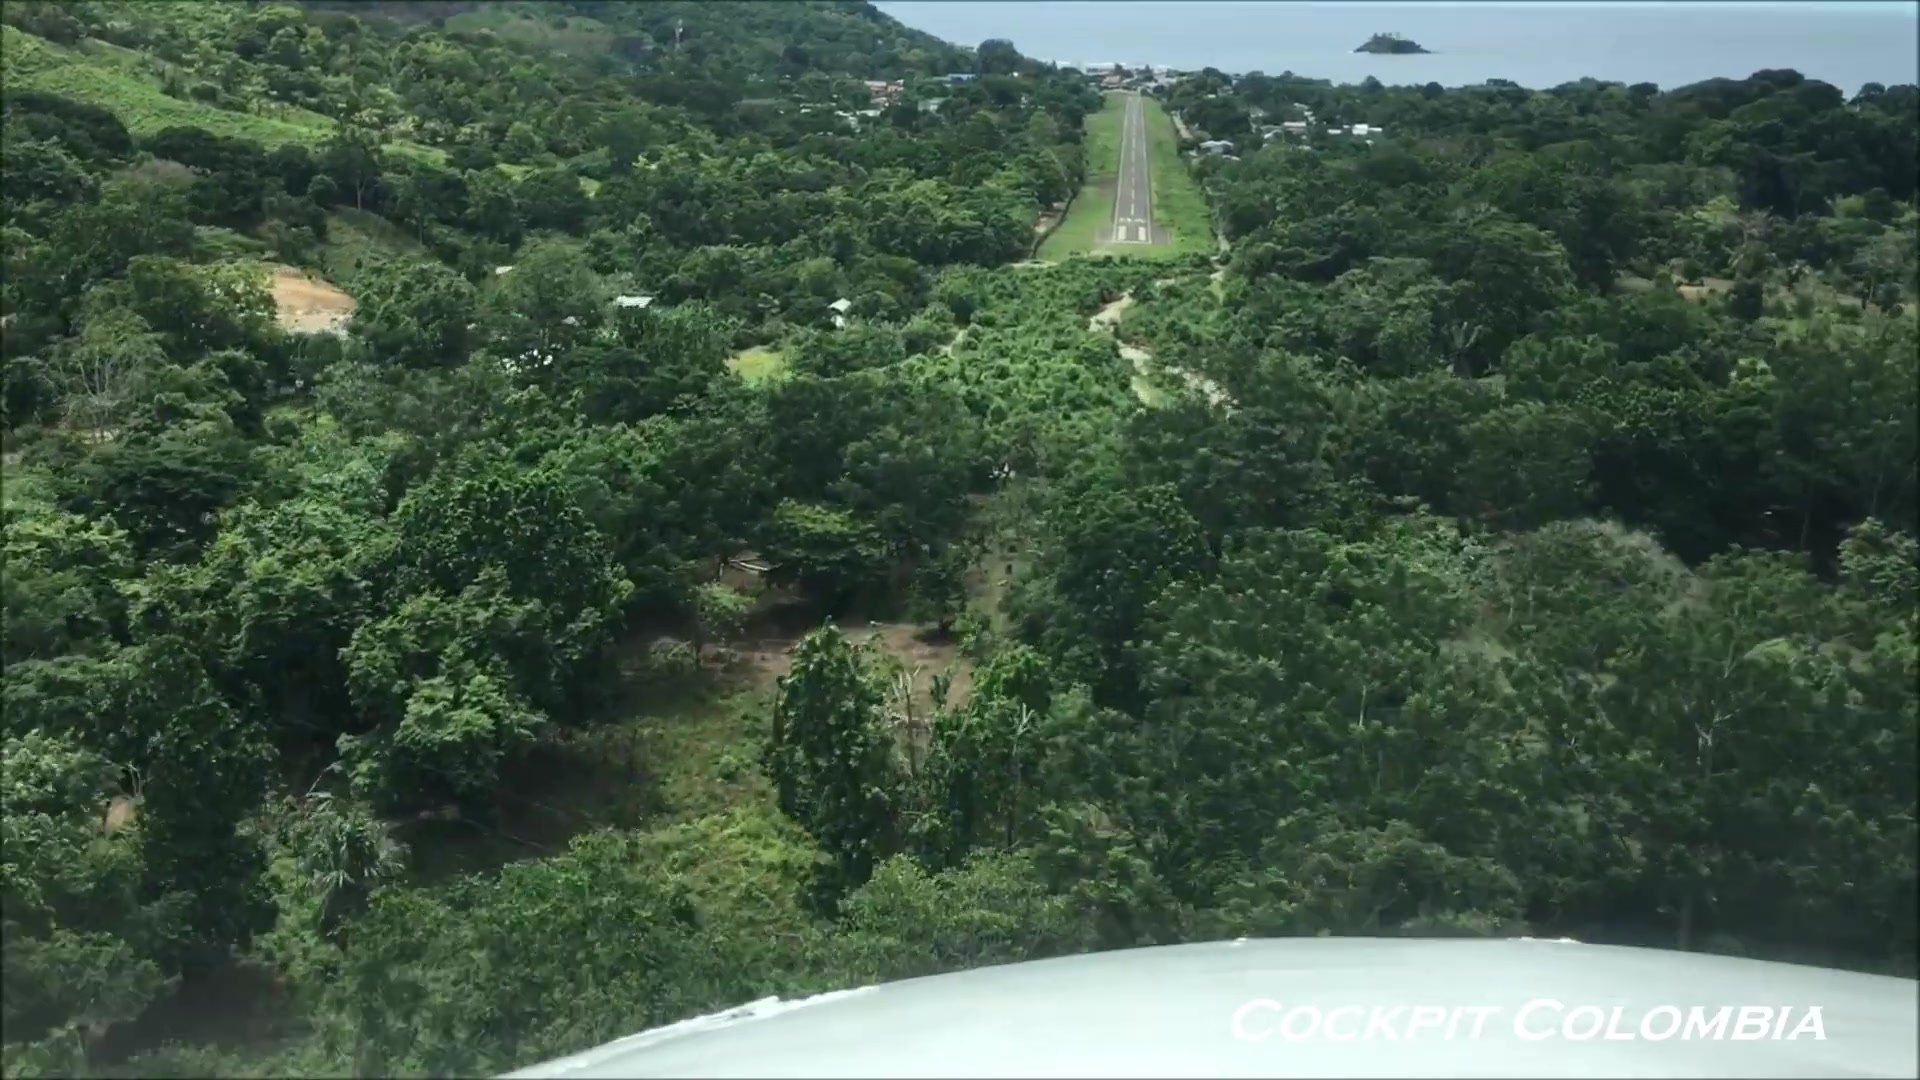entrance: (1116, 224, 1149, 241)
runway: (1109, 95, 1153, 247)
